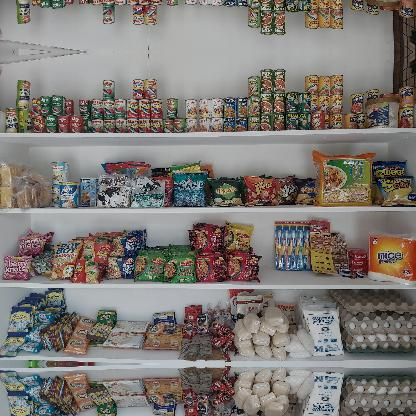Lady-s-Choice: (365, 96, 399, 127), (365, 0, 400, 8)
